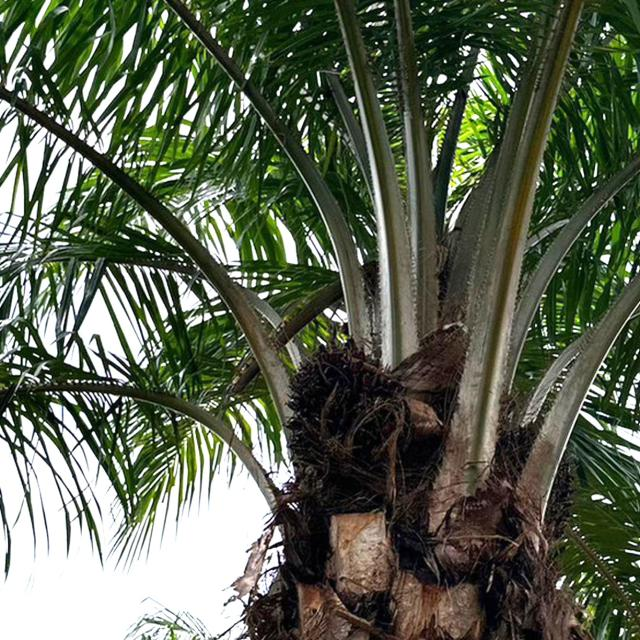ripe: (275, 328, 402, 458)
